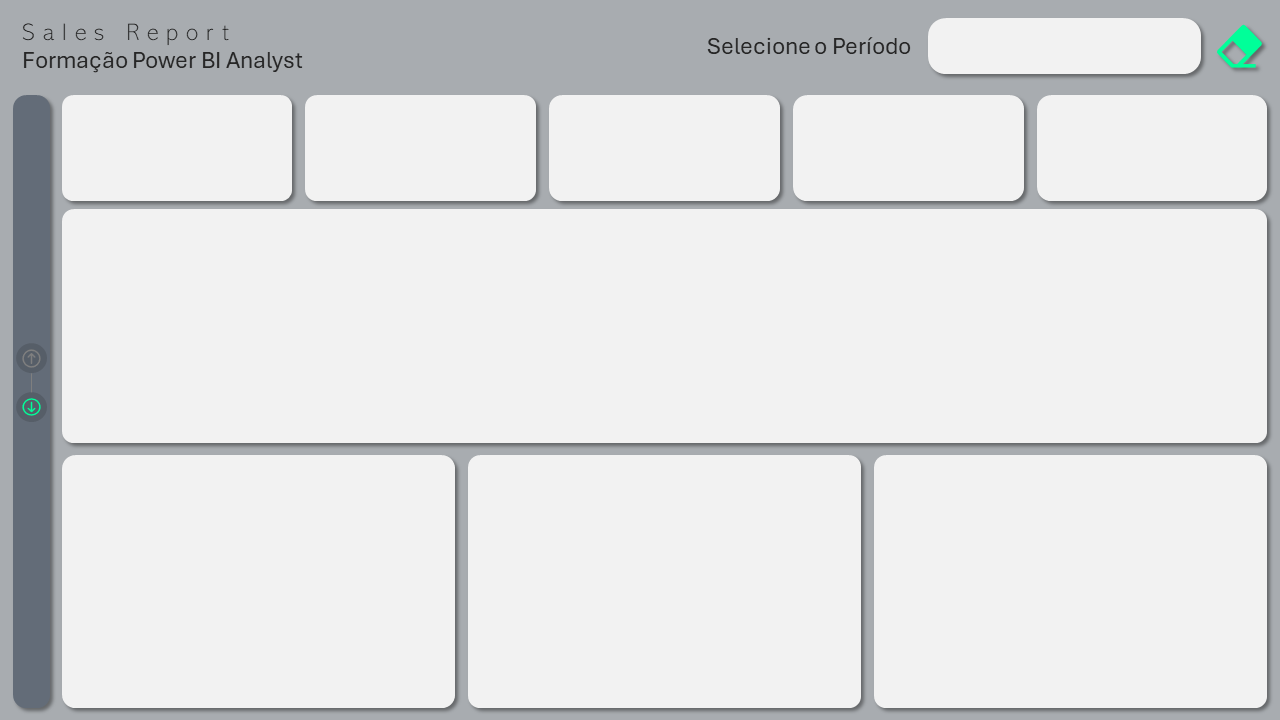

The dashboard page shown, as its layout file describes it:
{"tool":"powerbi","page":{"name":"Sales Report","canvas":[1280,720],"ordinal":0},"visuals":[{"type":"clusteredBarChart","title":"Sales x Product","fields":{"Category":["dados.Product"],"Y":["Sum(dados. Sales)"]},"box":[472.5,470,379.4,229.4],"z":0},{"type":"treemap","title":"Sales x Country","fields":{"Group":["dados.Country"],"Values":["Sum(dados. Sales)"]},"box":[882,470,379,229],"z":0,"group":"g1"},{"type":"areaChart","fields":{"Category":["dados.Date.Variation.Hierarquia de datas.Mês"],"Y":["Sum(dados. Sales)"]},"box":[67,215.1,1194.2,224.5],"z":1000},{"type":"actionButton","title":"Botão - Map","box":[1163.7,458.4,100,30.9],"z":1250,"group":"g1"},{"type":"actionButton","title":"Botão  Tremaps","box":[1062.8,458.3,100,30.9],"z":1500,"group":"g1"},{"type":"card","fields":{"Values":["Sum(dados.COGS)"]},"box":[1044.9,101.1,216.3,92.9],"z":2000},{"type":"clusteredBarChart","title":"Sales x Segment","fields":{"Category":["dados.Segment"],"Y":["Sum(dados. Sales)"]},"box":[67,474,382,225],"z":2000,"group":"g2"},{"type":"actionButton","title":"Botão - Pie","box":[350.9,458.3,100,30.9],"z":2250,"group":"g2"},{"type":"actionButton","title":"Botão - Bar","box":[250,458.2,100,30.9],"z":2500,"group":"g2"},{"type":"card","fields":{"Values":["Sum(dados. Sales)"]},"box":[67,101.1,216.3,92.9],"z":3000},{"type":"card","fields":{"Values":["Sum(dados.Units Sold)"]},"box":[312.7,101.1,216.3,92.9],"z":4000},{"type":"card","fields":{"Values":["Sum(dados.Discounts)"]},"box":[556,101.1,216.3,92.9],"z":5000},{"type":"card","fields":{"Values":["Sum(dados.Gross Sales)"]},"box":[800.4,101.1,216.3,92.9],"z":6000},{"type":"slicer","fields":{"Values":["dados.Date"]},"box":[927.2,15.4,275,57],"z":7000},{"type":"actionButton","box":[1210.3,17.2,62.4,57],"z":8000},{"type":"actionButton","box":[15.4,388.1,36.2,35.3],"z":9000},{"type":"group","id":"g1","title":"Sales x País","box":[881.9,458.3,381.8,241.1],"z":12000},{"type":"group","id":"g2","title":"Sales x Seguimento","box":[67,458.2,383.9,240.8],"z":12500}]}

Visuals, with their boxes in screenshot pixels (x1, y1, x2, y2), scaled from the page's 1280x720 canvas onto the 1280x720 screenshot:
"Sales x Product" clusteredBarChart: Rect(472, 470, 852, 699)
"Sales x Country" treemap: Rect(882, 470, 1261, 699)
areaChart - dados.Date.Variation.Hierarquia de datas.Mês x Sum(dados. Sales): Rect(67, 215, 1261, 440)
"Botão - Map" actionButton: Rect(1164, 458, 1264, 489)
"Botão  Tremaps" actionButton: Rect(1063, 458, 1163, 489)
card - Sum(dados.COGS): Rect(1045, 101, 1261, 194)
"Sales x Segment" clusteredBarChart: Rect(67, 474, 449, 699)
"Botão - Pie" actionButton: Rect(351, 458, 451, 489)
"Botão - Bar" actionButton: Rect(250, 458, 350, 489)
card - Sum(dados. Sales): Rect(67, 101, 283, 194)
card - Sum(dados.Units Sold): Rect(313, 101, 529, 194)
card - Sum(dados.Discounts): Rect(556, 101, 772, 194)
card - Sum(dados.Gross Sales): Rect(800, 101, 1017, 194)
slicer - dados.Date: Rect(927, 15, 1202, 72)
actionButton: Rect(1210, 17, 1273, 74)
actionButton: Rect(15, 388, 52, 423)
"Sales x País" group: Rect(882, 458, 1264, 699)
"Sales x Seguimento" group: Rect(67, 458, 451, 699)
